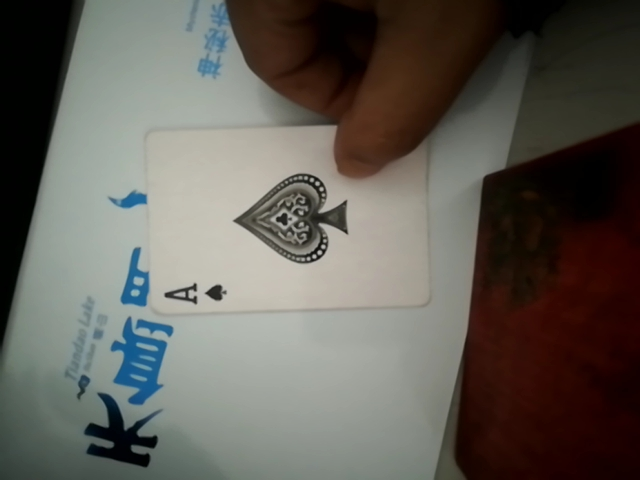ht a: (143, 91, 440, 313)
